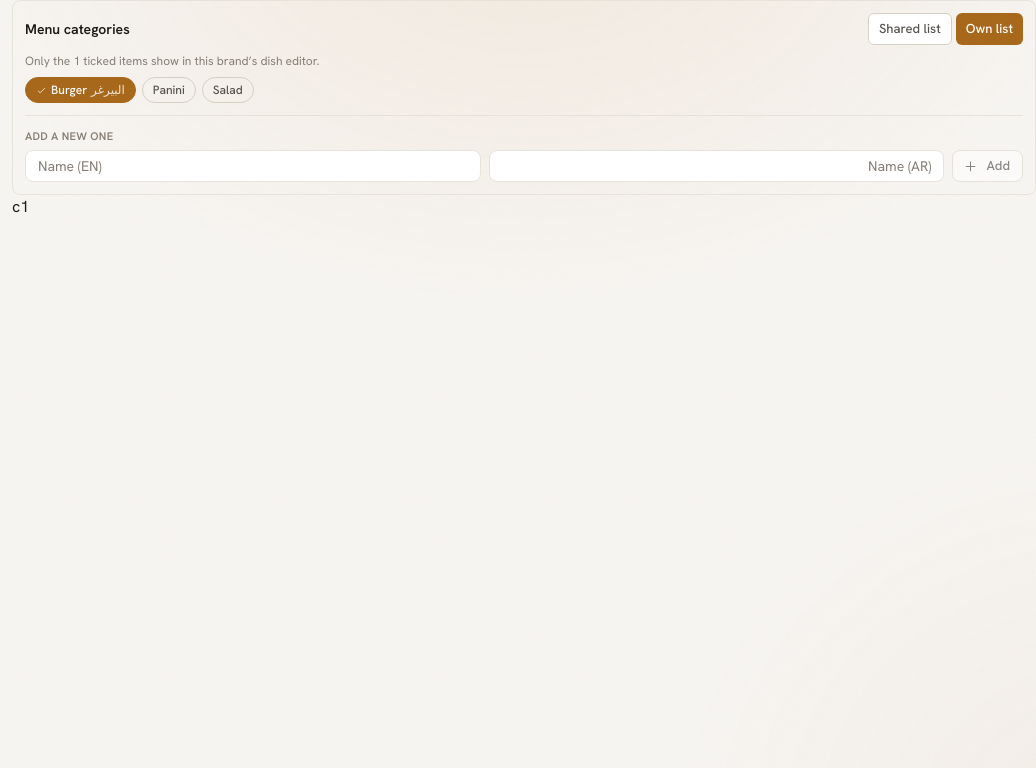
Test case: BrandListEditor › adds a new item and ticks it
The image size is (1036, 768).
Type "Wraps" into the field labelled "Name (EN)".
click(253, 166); type("Wraps")  # box top-left (25, 150), bottom-right (481, 182)
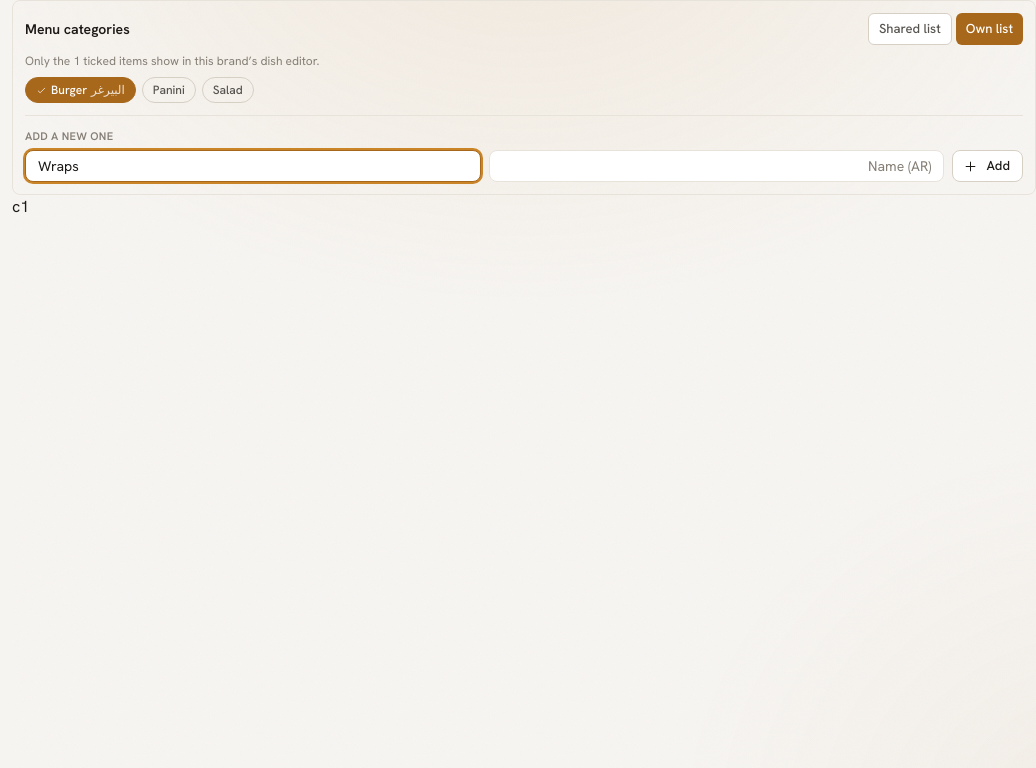
Type "لفائف" into the field labelled "Name (AR)".
click(717, 166); type("لفائف")  # box top-left (489, 150), bottom-right (944, 182)
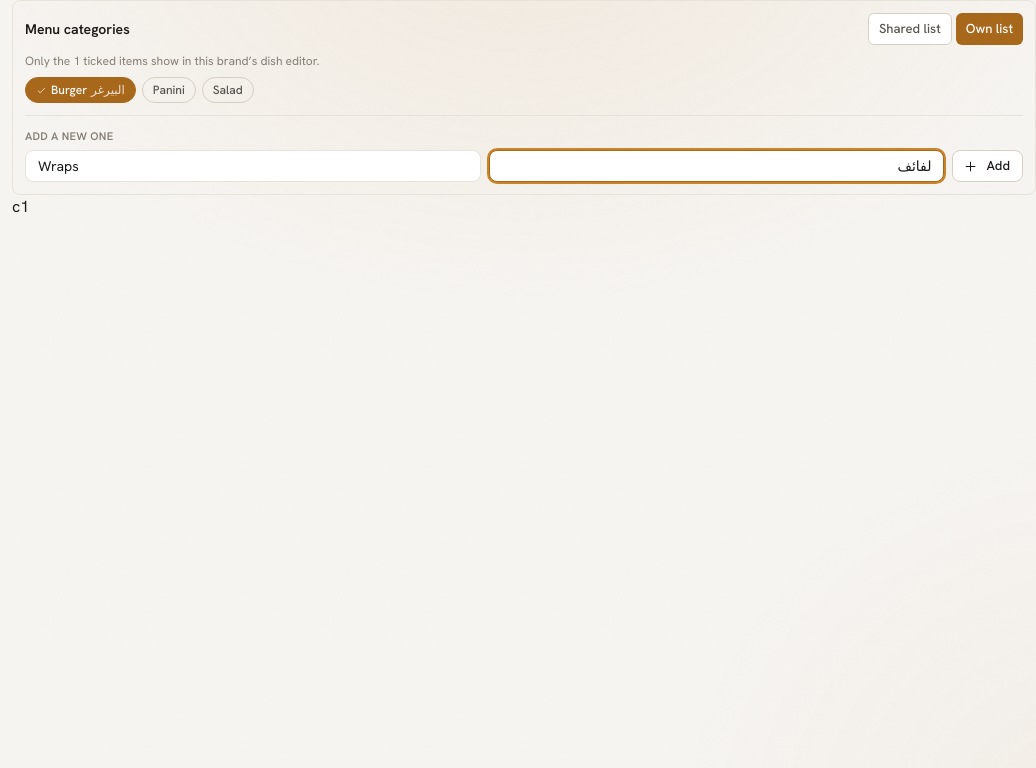
Click the button "Add".
click(988, 166)  # box top-left (952, 150), bottom-right (1023, 182)
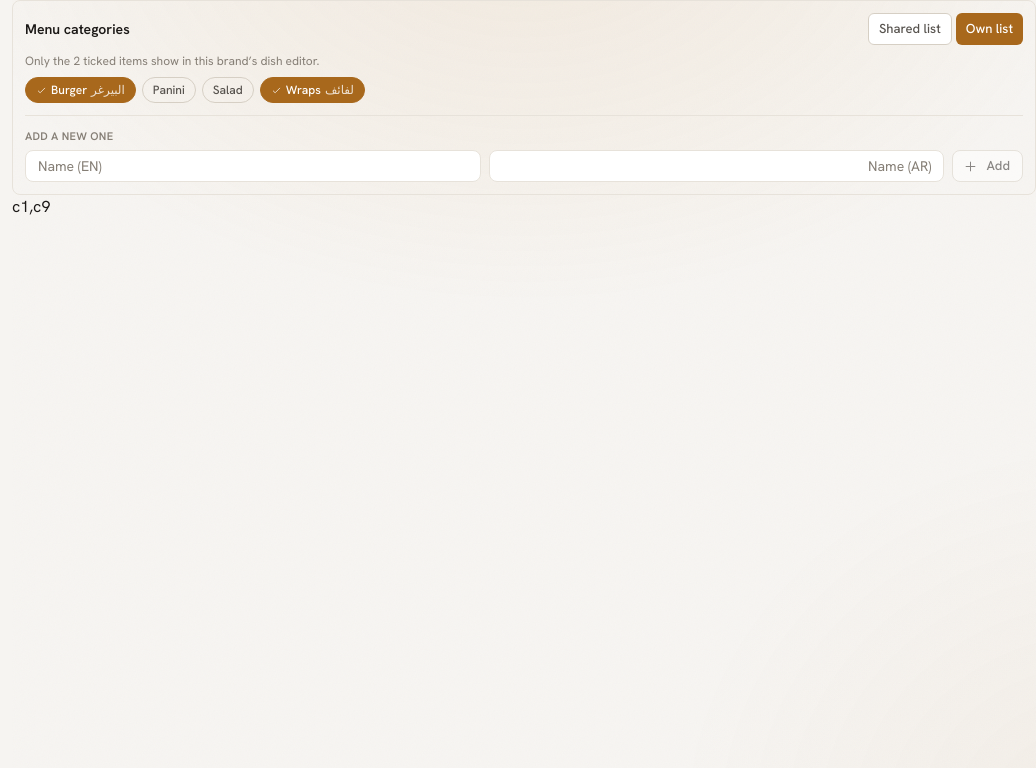
Expected: the text with test id "selected" reads "c1,c9", top-left (12, 196), bottom-right (50, 217)
